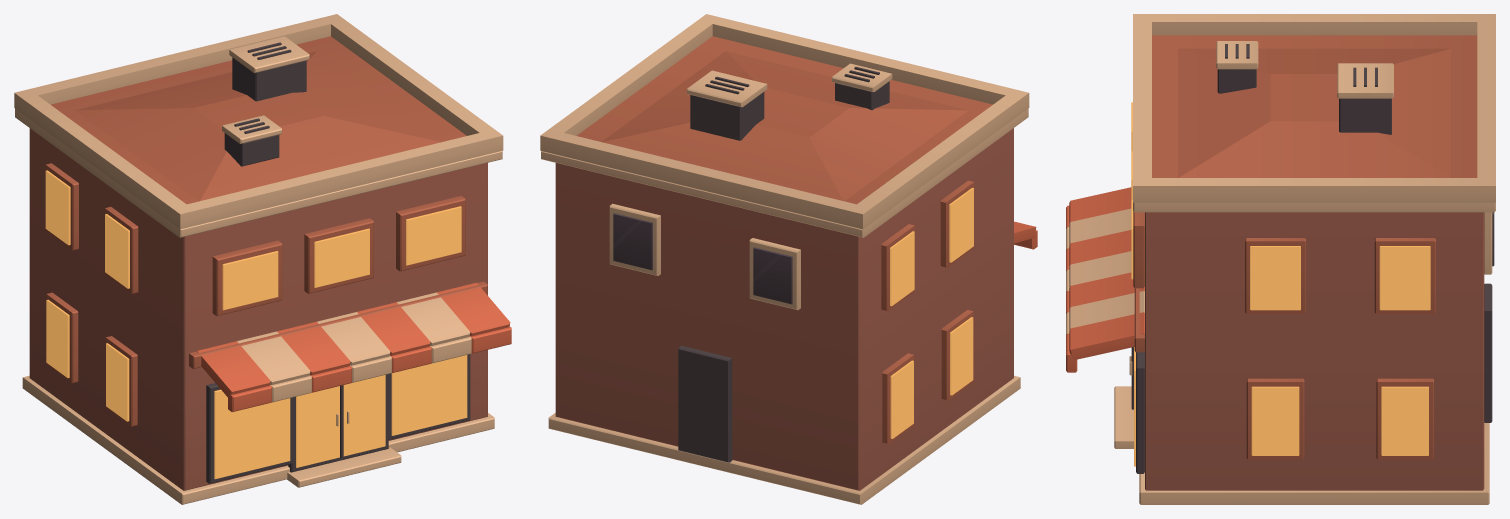
The model's file is 02D-market-threejs.glb.
3 renders of one model, left to right at view 1: azimuth 30°, elevation 25°; view 2: azimuth 150°, elevation 25°; view 3: azimuth 270°, elevation 25°, orthographic. The views are drawn at different scales.
Parts seen in each view (by area): view 1: 02D / wall, 02D / trim, 02D / roof, 02D / glow, 02D / accent, 02D / dark; view 2: 02D / wall, 02D / trim, 02D / roof, 02D / dark, 02D / glow, 02D / glass, 02D / accent; view 3: 02D / wall, 02D / roof, 02D / trim, 02D / glow, 02D / accent, 02D / dark.
Part boxes in pixels (x1,y1,x2,y2): 02D / wall: (29, 128, 487, 490); 02D / trim: (14, 14, 503, 504); 02D / roof: (45, 36, 487, 426); 02D / glow: (45, 170, 467, 479); 02D / accent: (197, 282, 511, 412); 02D / dark: (206, 42, 470, 483); 02D / wall: (555, 128, 1013, 490); 02D / trim: (540, 14, 1029, 504); 02D / roof: (577, 36, 992, 444); 02D / dark: (678, 66, 889, 462); 02D / glow: (890, 187, 973, 438); 02D / glass: (613, 213, 792, 304); 02D / accent: (1014, 221, 1037, 249); 02D / wall: (1145, 212, 1484, 490); 02D / roof: (1133, 35, 1477, 459); 02D / trim: (1066, 14, 1495, 504); 02D / glow: (1131, 102, 1430, 466); 02D / accent: (1066, 187, 1144, 372); 02D / dark: (1131, 44, 1492, 473).
Size of the model in its own units: 6.06 by 5.97 by 6.4.
Materials: 7 (7 with a texture image).
